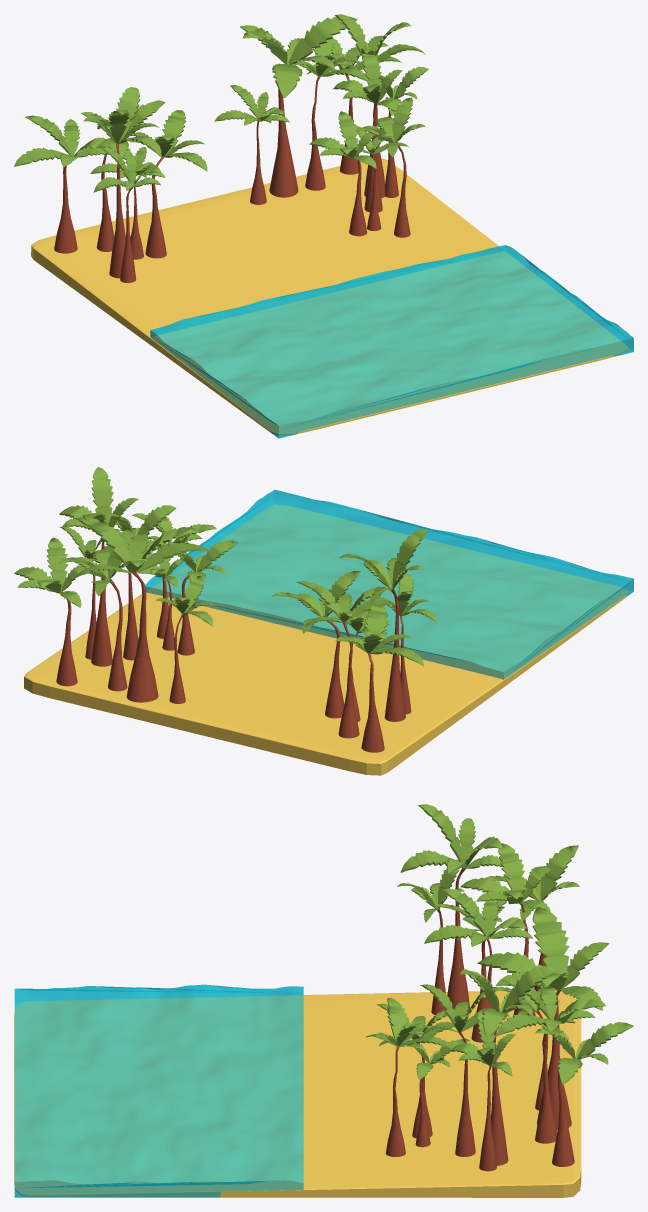
The picture shows the model from 3 angles, top to bottom: view 1: azimuth 30°, elevation 25°; view 2: azimuth 150°, elevation 25°; view 3: azimuth 270°, elevation 25°; orthographic projection. The views are drawn at different scales.
Parts seen in each view (by area): view 1: Плоскость, Цилиндр.006; view 2: Плоскость, Цилиндр.006; view 3: Плоскость, Цилиндр.006.
Boxes of the visible parts, left/top/right/bottom form: Плоскость: left=31, top=158, right=633, bottom=438; Цилиндр.006: left=14, top=14, right=428, bottom=282; Плоскость: left=24, top=489, right=633, bottom=775; Цилиндр.006: left=14, top=467, right=437, bottom=752; Плоскость: left=14, top=984, right=581, bottom=1197; Цилиндр.006: left=366, top=804, right=633, bottom=1171.
Bounding box in the file's own units: 4788 × 2165 × 5770.
